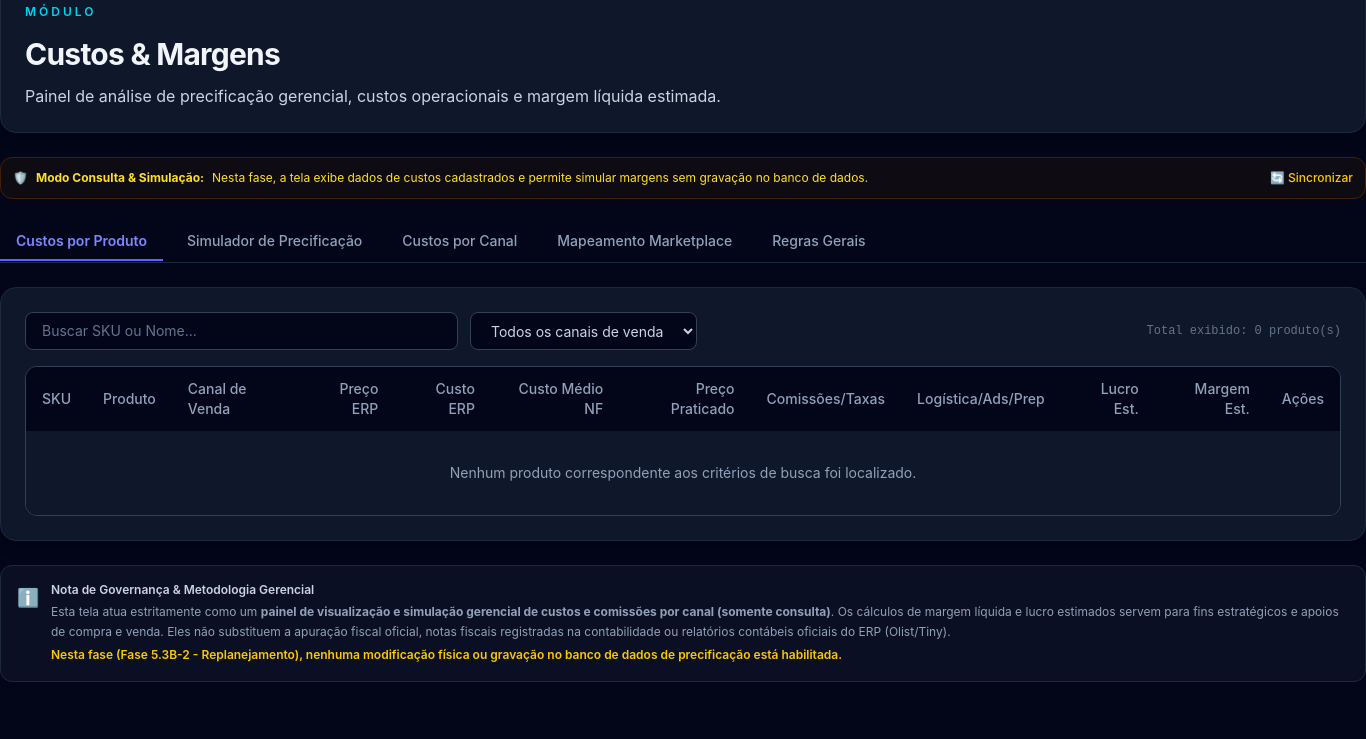
Test: CustosMargem - Simulador Mercado Livre (Fase 5.5L-6G.4) › 7. deve garantir que o banner de simulacao mockada/local permanece visivel
Click the button "Simulador de Precificação" at [275, 242], box x1=171 y1=223 x2=378 y2=261
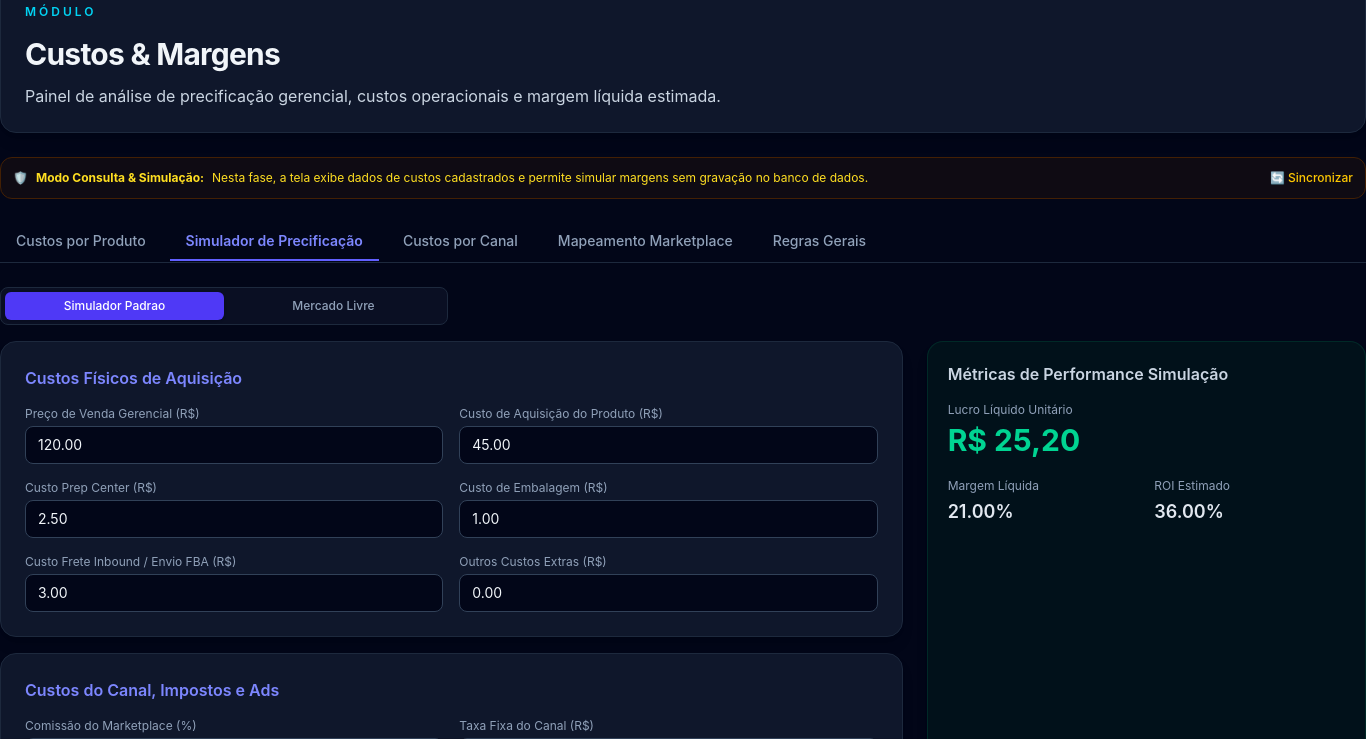
Click the button "Mercado Livre" at [334, 306], box x1=224 y1=292 x2=443 y2=320
(page scrolled)
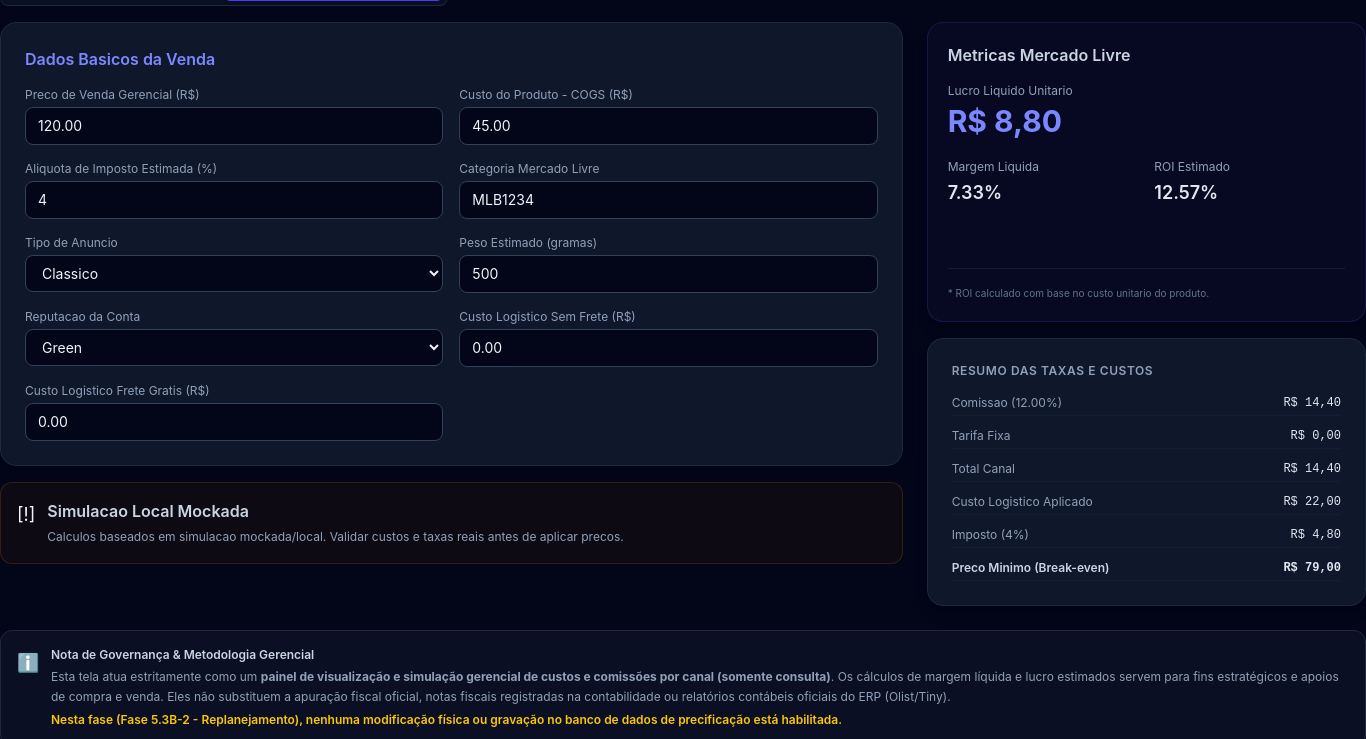
Now the heading "Metricas Mercado Livre" is shown, box x1=948 y1=45 x2=1130 y2=65
Now the heading "Simulacao Local Mockada" is shown, box x1=47 y1=501 x2=249 y2=521
Now the text "Calculos baseados em simulacao mockada/local" is shown, box x1=47 y1=529 x2=624 y2=544
